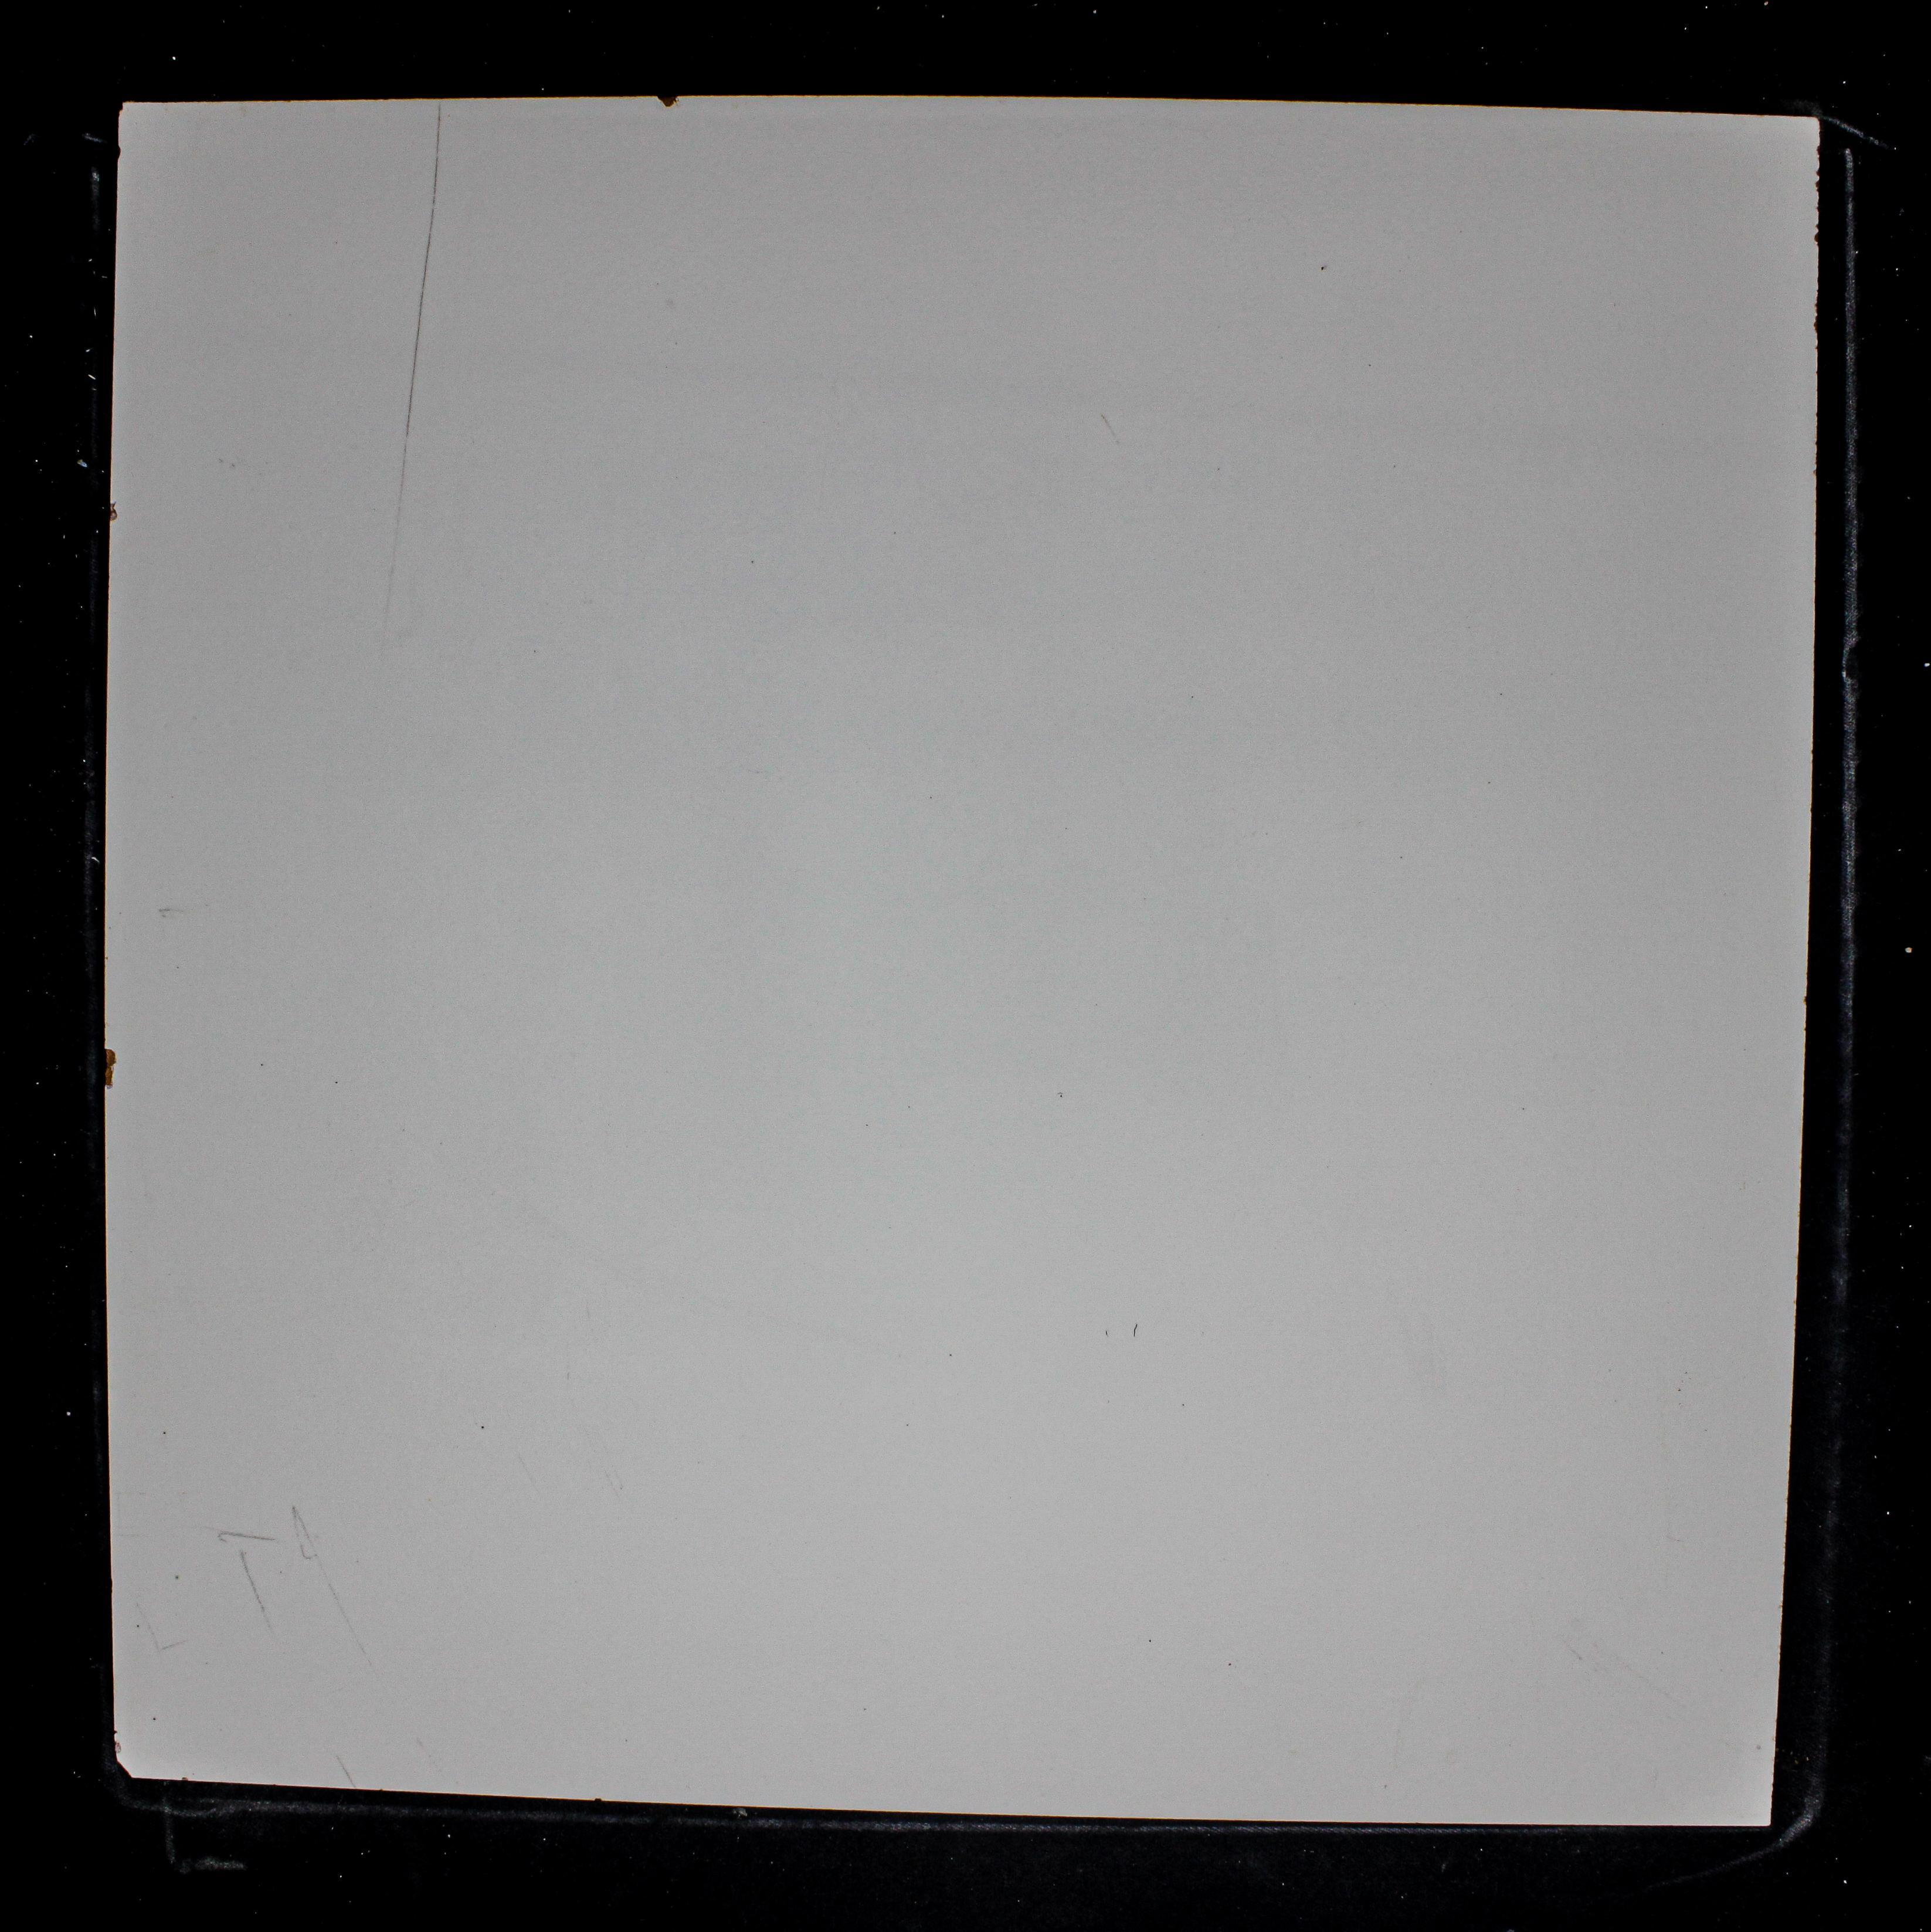edge-chipping: (101, 1047, 118, 1088), (654, 92, 679, 110), (115, 1760, 134, 1778), (108, 501, 118, 524)
line: (398, 101, 446, 490), (327, 1582, 371, 1667), (237, 1548, 267, 1614), (290, 1504, 318, 1560), (216, 1529, 278, 1545), (334, 1753, 355, 1787), (157, 1638, 191, 1656)
